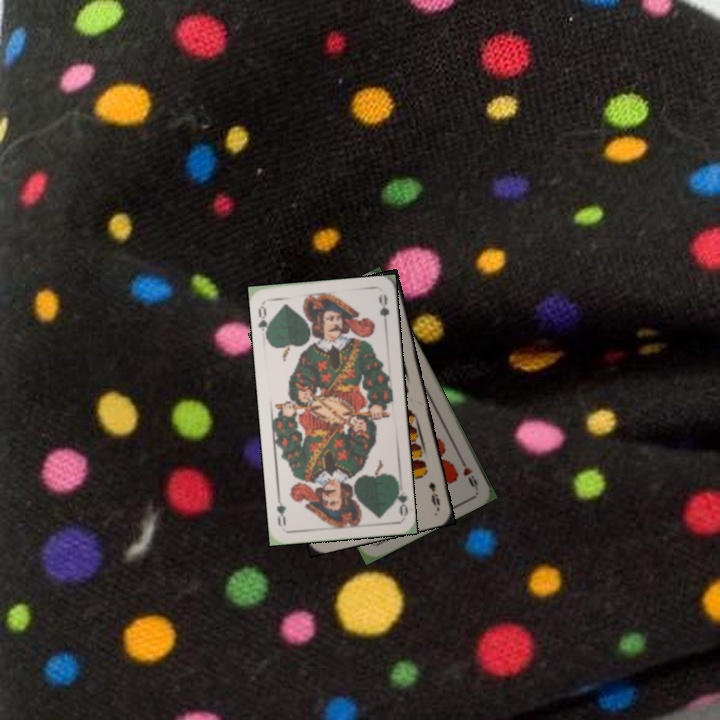E9: (425, 478, 443, 511)
GO: (390, 478, 410, 518), (254, 300, 273, 341)
H9: (455, 453, 480, 491)
